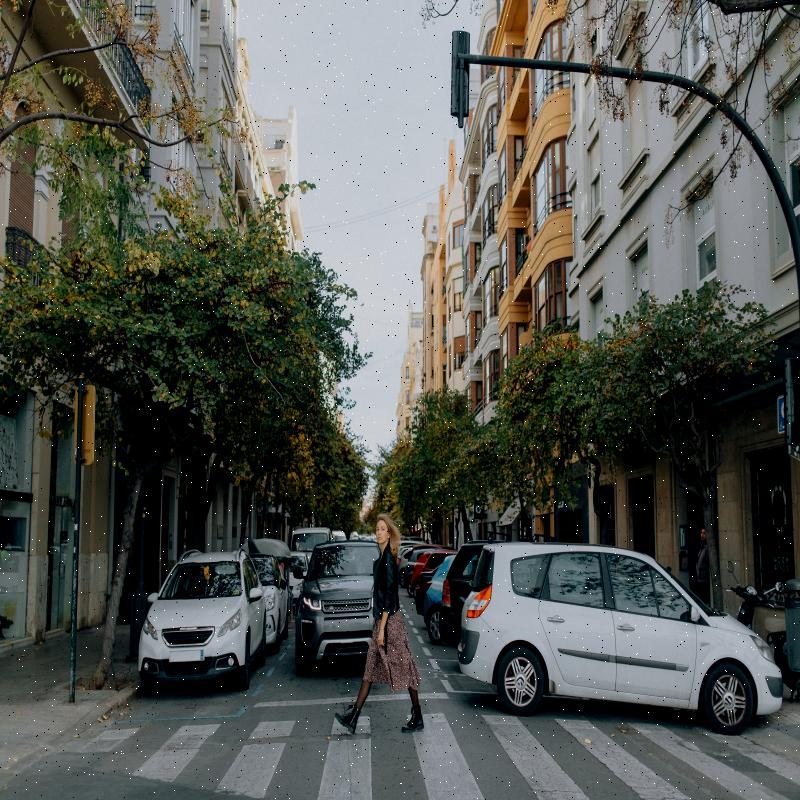car: (456, 532, 800, 759), (147, 544, 268, 689), (304, 523, 396, 687)
